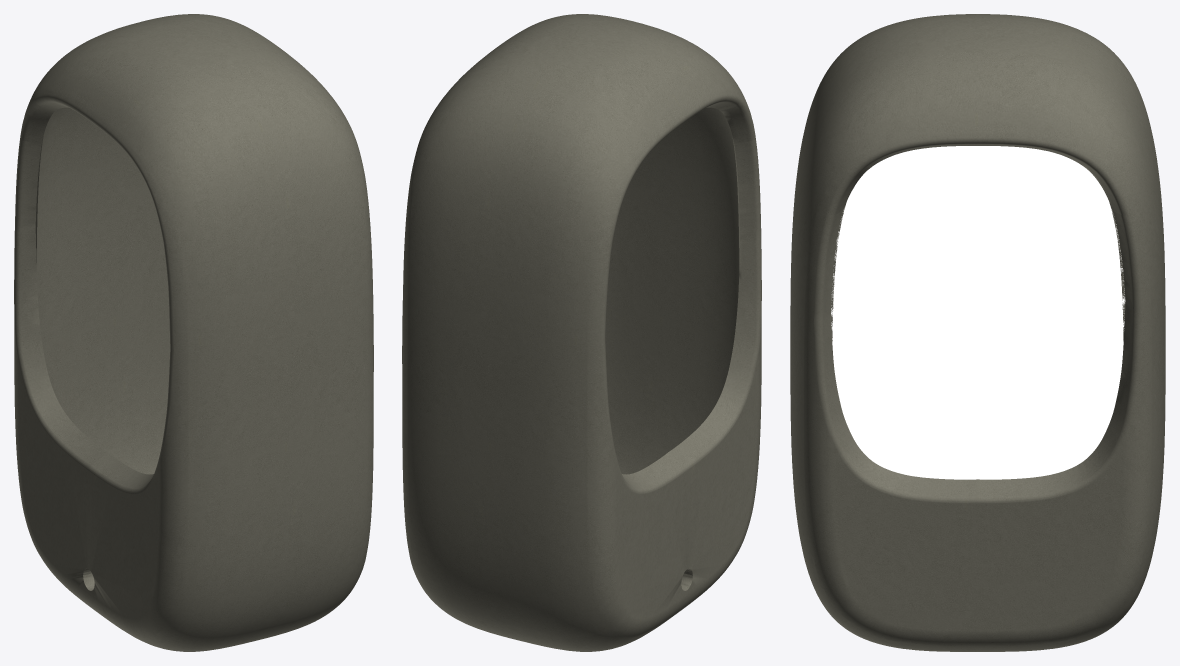
File: qibo.glb
The picture shows the model from 3 angles, left to right: view 1: azimuth 30°, elevation 25°; view 2: azimuth 150°, elevation 25°; view 3: azimuth 270°, elevation 25°; orthographic projection. The views are drawn at different scales.
Parts seen in each view (by area): view 1: Holo; view 2: Holo; view 3: Holo.
Part boxes in pixels (bbox=[...]): Holo: bbox=[14, 14, 373, 651]; Holo: bbox=[402, 14, 761, 651]; Holo: bbox=[790, 14, 1165, 651].
Bounding box in the file's own units: 0.08 × 0.2049 × 0.12.
4 materials, 1 textured.
